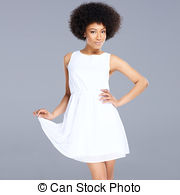face: (80, 16, 116, 54)
